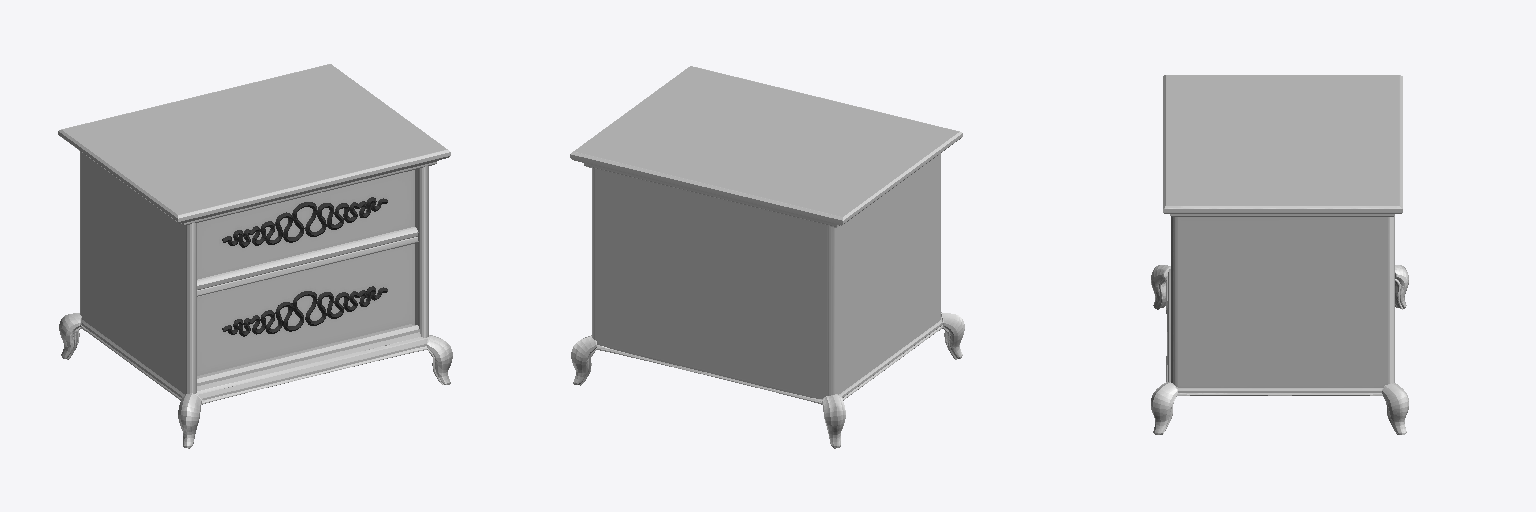
3 views of the same model, side by side, from view 1: azimuth 30°, elevation 25°; view 2: azimuth 150°, elevation 25°; view 3: azimuth 270°, elevation 25° (orthographic).
Parts seen in each view (by area): view 1: solid_001, solid_002; view 2: solid_001; view 3: solid_001.
Part boxes in pixels (x1,y1,x2,y2): solid_001: (58,64,452,448); solid_002: (222,197,387,336); solid_001: (570,66,964,448); solid_001: (1151,75,1408,434).
Bounding box in the file's own units: 0.6498 × 0.5255 × 0.5336.
1 materials, 1 textured.